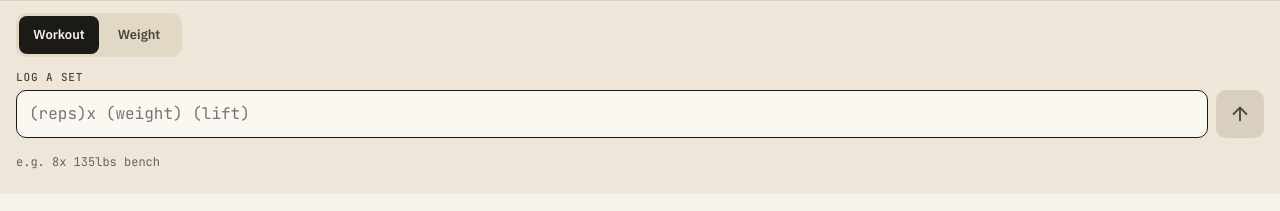
Test: Composer › previews the note the entry will get, using the mode
In the text box labelled "Log a set": (612, 114) 16,90 -> 1208,138, type "5x 155lb 1x bench"
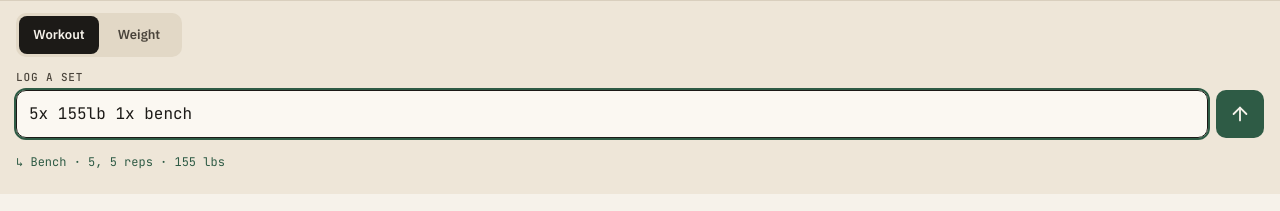
expect the text "↳ Bench · 5, 5 reps · 155 lbs" is shown: met, box 16,154 -> 225,170
